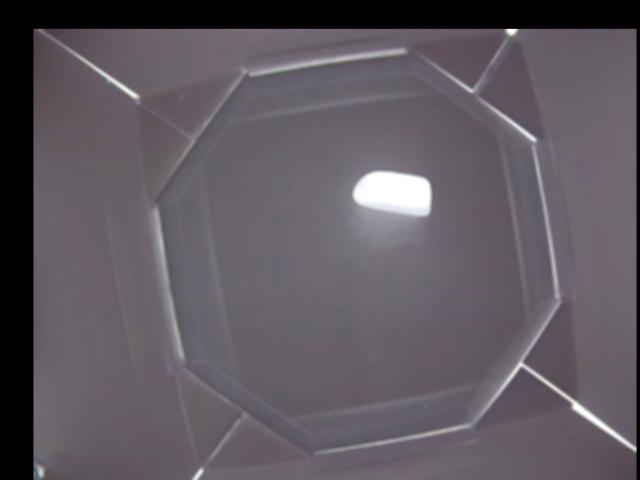Pebble: (352, 171, 434, 213)
